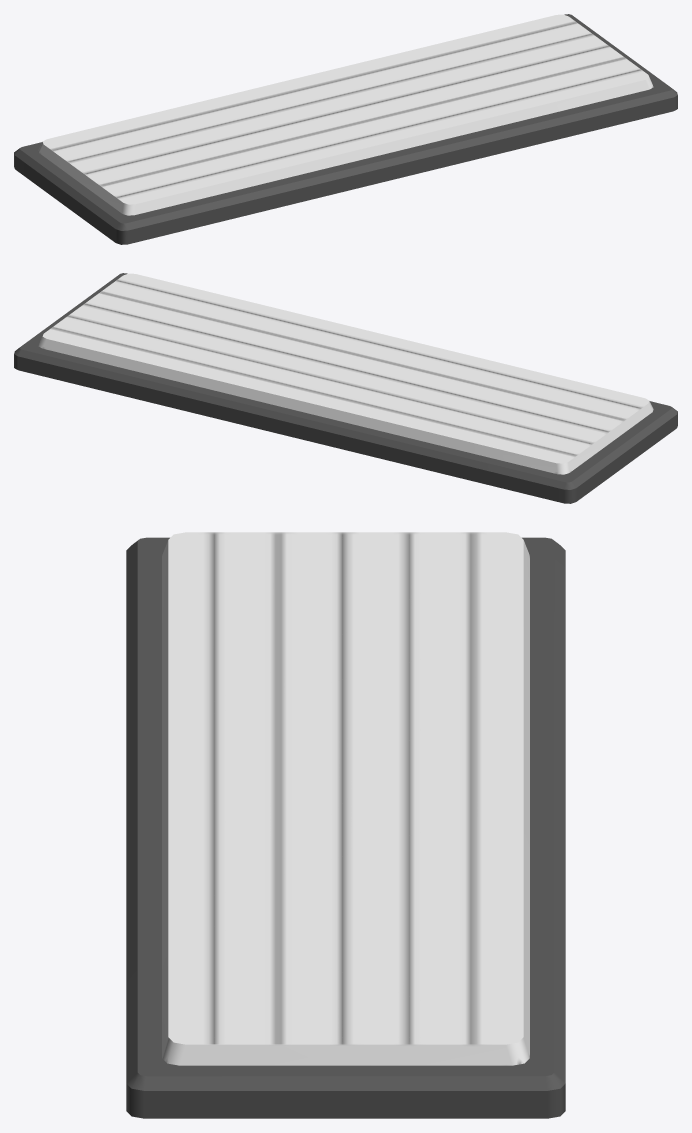
The model's file is DES_Keyboard.fbx.
3 views of the same model, one above another, from view 1: azimuth 30°, elevation 25°; view 2: azimuth 150°, elevation 25°; view 3: azimuth 270°, elevation 25° (orthographic). The views are drawn at different scales.
Visible parts, largest first — view 1: KeyboardBrokenPiece_2, KeyboardBrokenPiece_1, KeyboardBrokenPiece_3; view 2: KeyboardBrokenPiece_3, KeyboardBrokenPiece_1, KeyboardBrokenPiece_2; view 3: KeyboardBrokenPiece_3, KeyboardBrokenPiece_1, KeyboardBrokenPiece_2.
Part boxes in pixels (x1,y1,x2,y2): KeyboardBrokenPiece_2: (14,116,346,244); KeyboardBrokenPiece_1: (141,74,543,191); KeyboardBrokenPiece_3: (315,14,677,142); KeyboardBrokenPiece_3: (14,273,288,435); KeyboardBrokenPiece_1: (266,306,464,478); KeyboardBrokenPiece_2: (455,352,677,503); KeyboardBrokenPiece_3: (126,801,565,1118); KeyboardBrokenPiece_1: (126,632,565,952); KeyboardBrokenPiece_2: (126,532,565,763).
Bounding box in the file's own units: 0.7114 × 0.0341 × 0.241.
